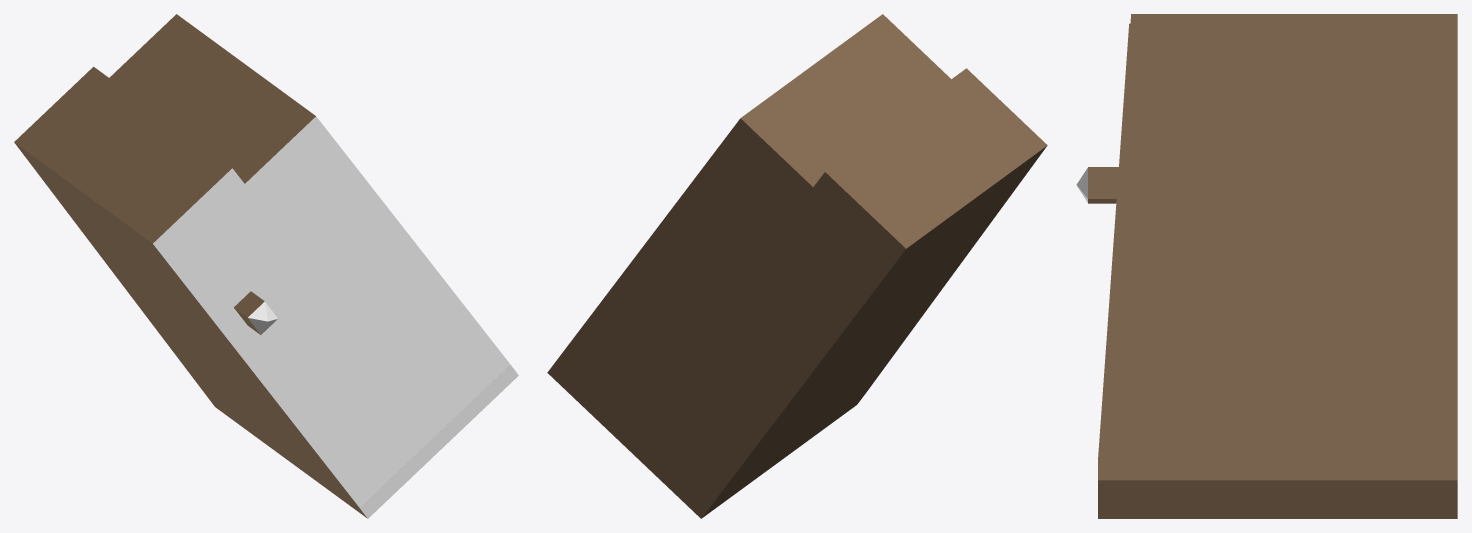
File: Groupe9950062.obj
3 views of the same model, side by side, from view 1: azimuth 30°, elevation 25°; view 2: azimuth 150°, elevation 25°; view 3: azimuth 270°, elevation 25° (orthographic). The views are drawn at different scales.
Parts seen in each view (by area): view 1: City_Groupe9950062; view 2: City_Groupe9950062; view 3: City_Groupe9950062.
Part boxes in pixels (box(x1,y1,x2,y2)): City_Groupe9950062: box(14, 14, 518, 518); City_Groupe9950062: box(547, 14, 1047, 518); City_Groupe9950062: box(1076, 14, 1457, 518).
Bounding box in the file's own units: 1344 × 1468 × 1071.
